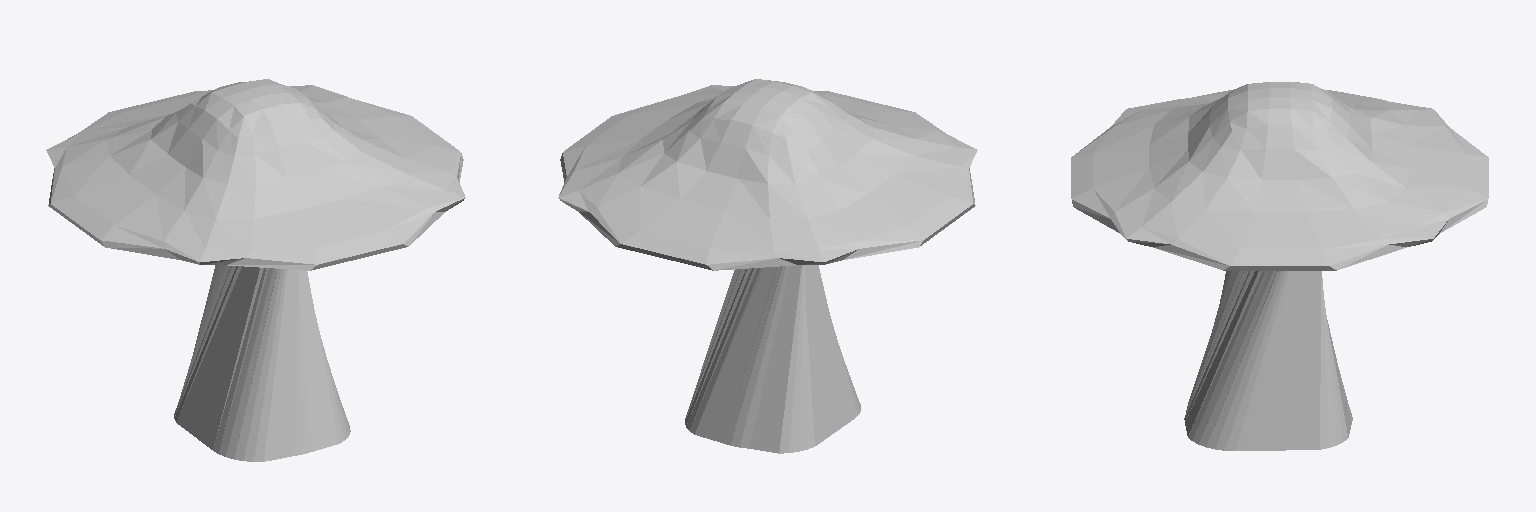
The model's file is mushroom.obj.
3 views of the same model, side by side, from view 1: azimuth 30°, elevation 25°; view 2: azimuth 150°, elevation 25°; view 3: azimuth 270°, elevation 25° (orthographic).
Visible parts, largest first — view 1: Cube, Cylinder; view 2: Cube, Cylinder; view 3: Cube, Cylinder.
Boxes of the visible parts, x1,y1,x2,y2 form: Cube: [46, 79, 465, 270]; Cylinder: [174, 265, 350, 461]; Cube: [558, 79, 977, 270]; Cylinder: [685, 265, 860, 453]; Cube: [1071, 82, 1488, 270]; Cylinder: [1184, 271, 1352, 450].
Bounding box in the file's own units: 6.14 × 5.31 × 6.14.